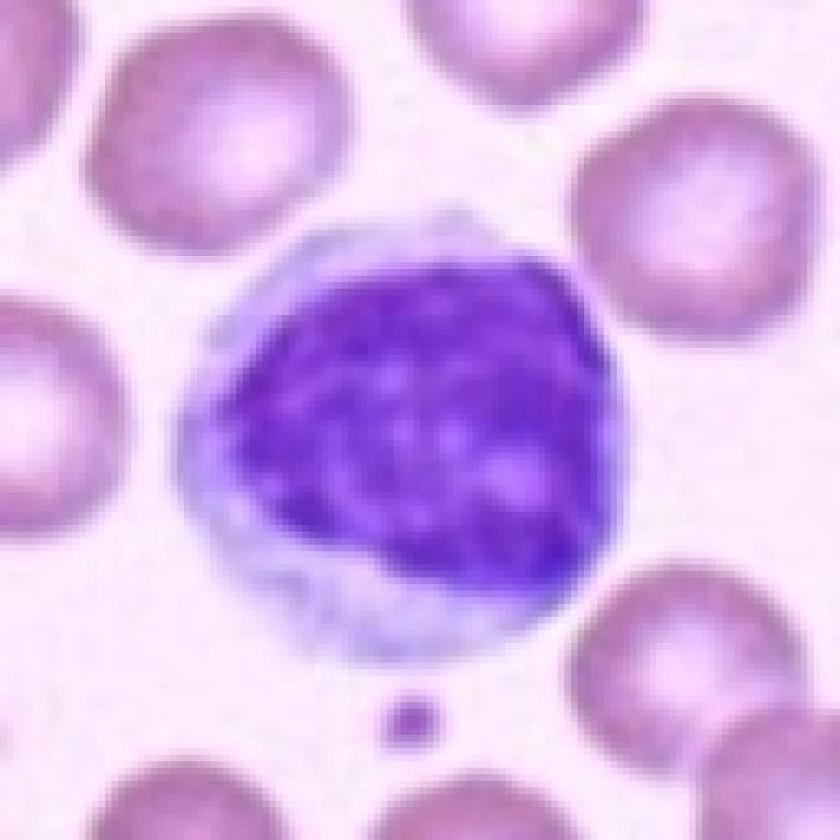lymphocyte: (161, 194, 642, 680)
